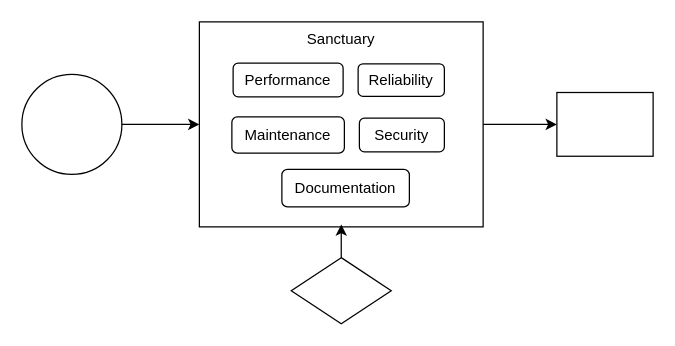
This 675x346 diagram has some shape labels left out. Each missing label, with the centre of its shape:
"Gen Oracle" goes at (340,290).
"on:push" goes at (71,123).
"Oracle (Issue)" goes at (604,123).
